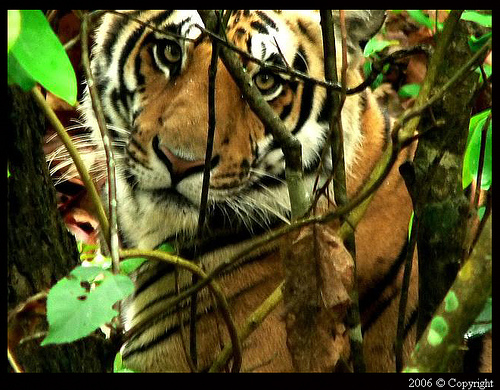Tigre: (103, 10, 383, 273)
